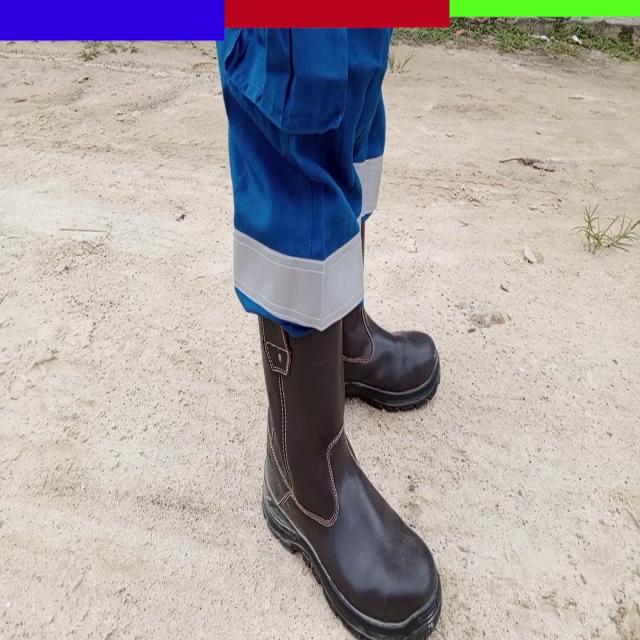Overall Suit: (214, 31, 403, 332)
Safety Boots: (260, 303, 443, 639), (329, 308, 440, 410)
